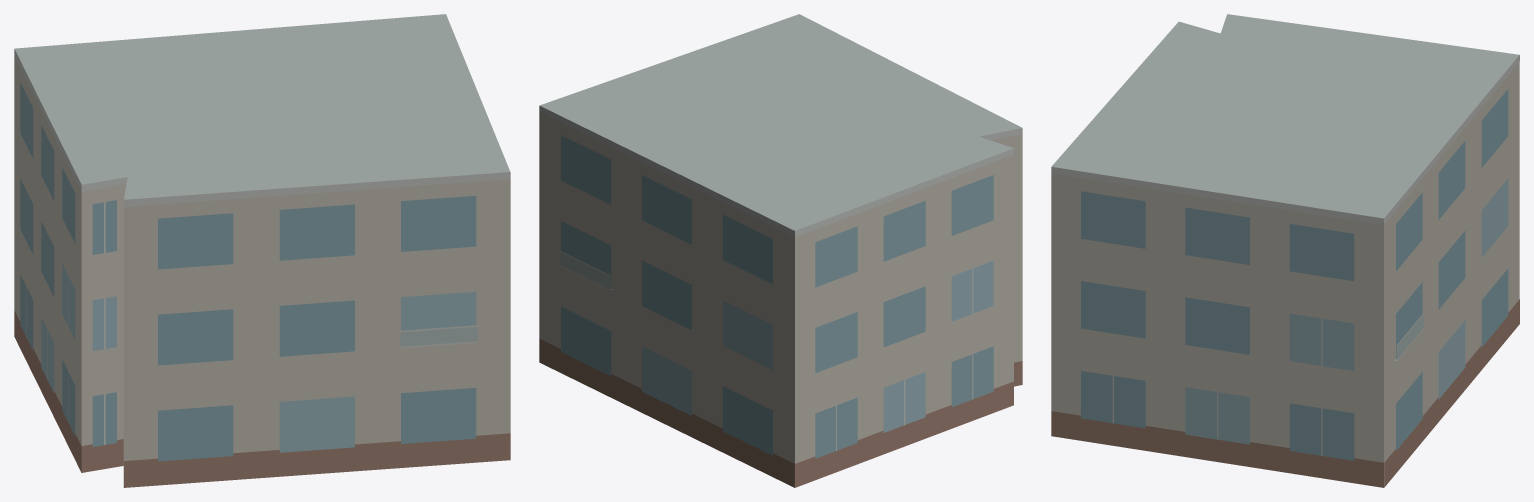
File: survey-upis-32839898.glb
3 renders of one model, left to right at view 1: azimuth 30°, elevation 25°; view 2: azimuth 150°, elevation 25°; view 3: azimuth 270°, elevation 25°, orthographic. The views are drawn at different scales.
Visible parts, largest first — view 1: survey-upis-32839898.tmp; view 2: survey-upis-32839898.tmp; view 3: survey-upis-32839898.tmp.
Part boxes in pixels (x1,y1,x2,y2): survey-upis-32839898.tmp: (14, 14, 510, 487); survey-upis-32839898.tmp: (539, 14, 1022, 487); survey-upis-32839898.tmp: (1051, 14, 1519, 487).
Bounding box in the file's own units: 16.13 × 9.9 × 15.62.
